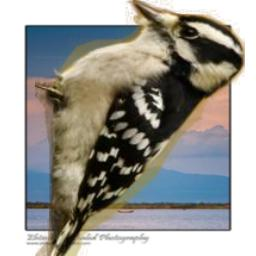Woodpecker: (35, 0, 245, 256)
